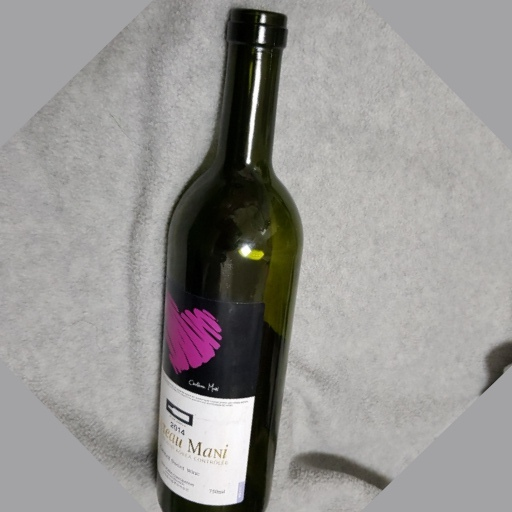Glass_2: (142, 6, 305, 512)
